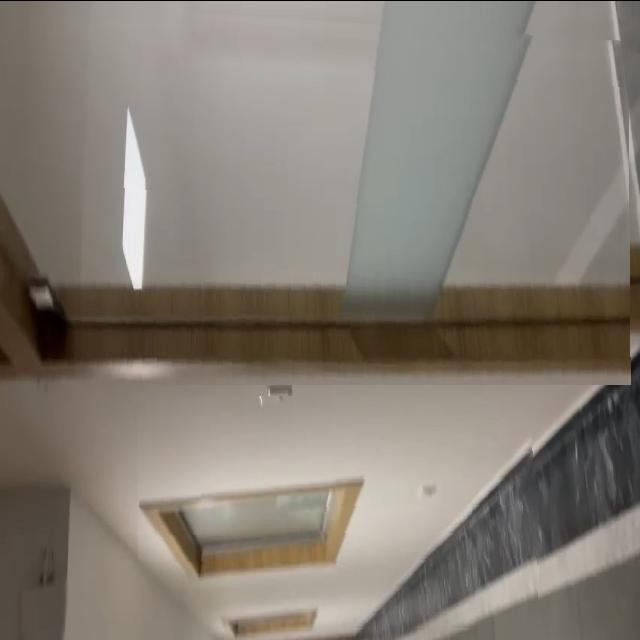door: (29, 0, 631, 384)
wall: (138, 395, 539, 629)
